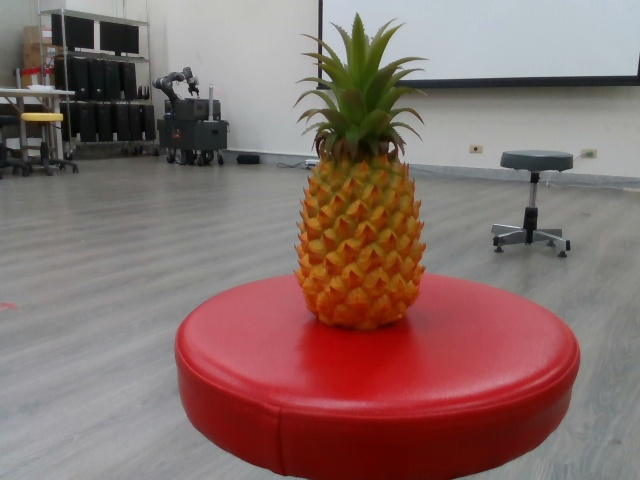pineapple: (291, 7, 430, 333)
